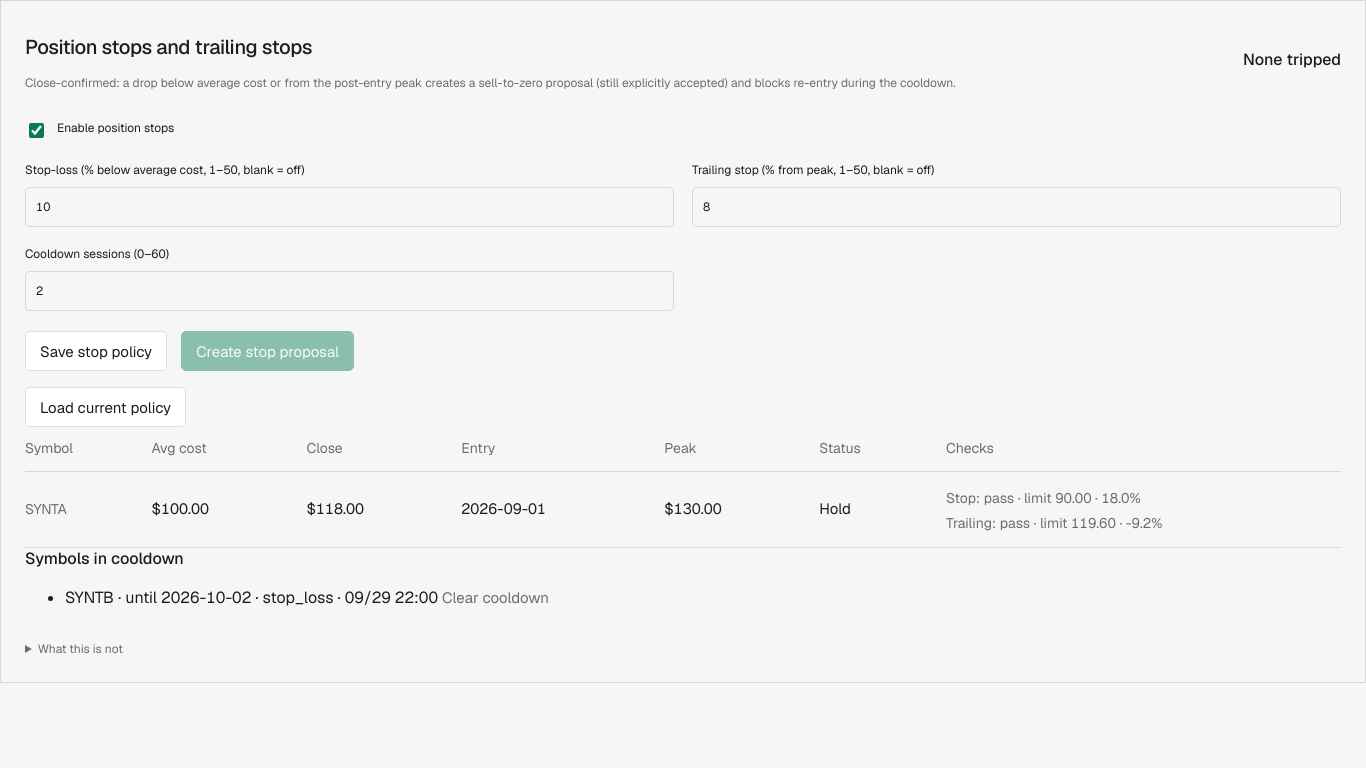
Test case: keeps edits made during save and uses the acknowledged version on the next save
Replace the text in the field labelled "Stop-loss (% below average cost, 1–50, blank = off)" with "22": (350, 207) [25,187,674,227]
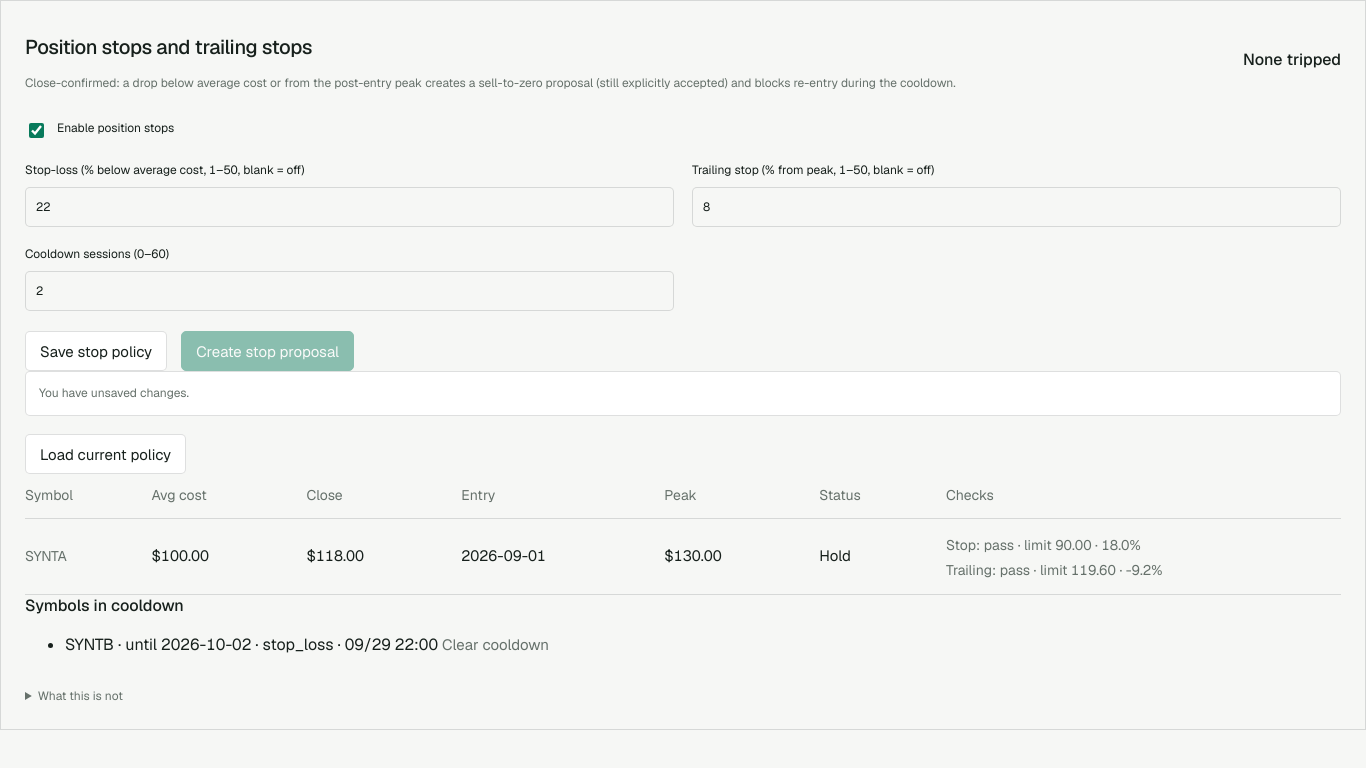
Click the button "Save stop policy": click(96, 351) [25,331,167,371]
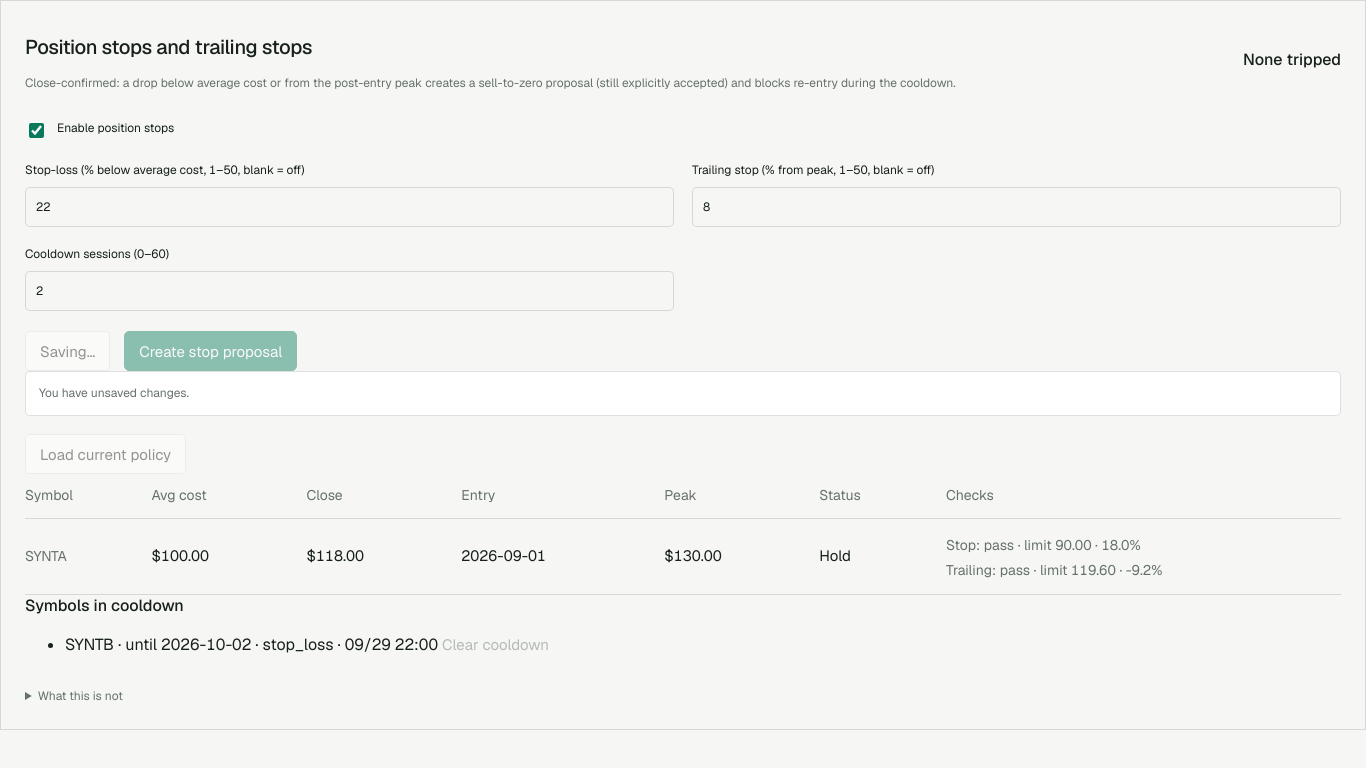
Replace the text in the field labelled "Stop-loss (% below average cost, 1–50, blank = off)" with "24": (350, 207) [25,187,674,227]
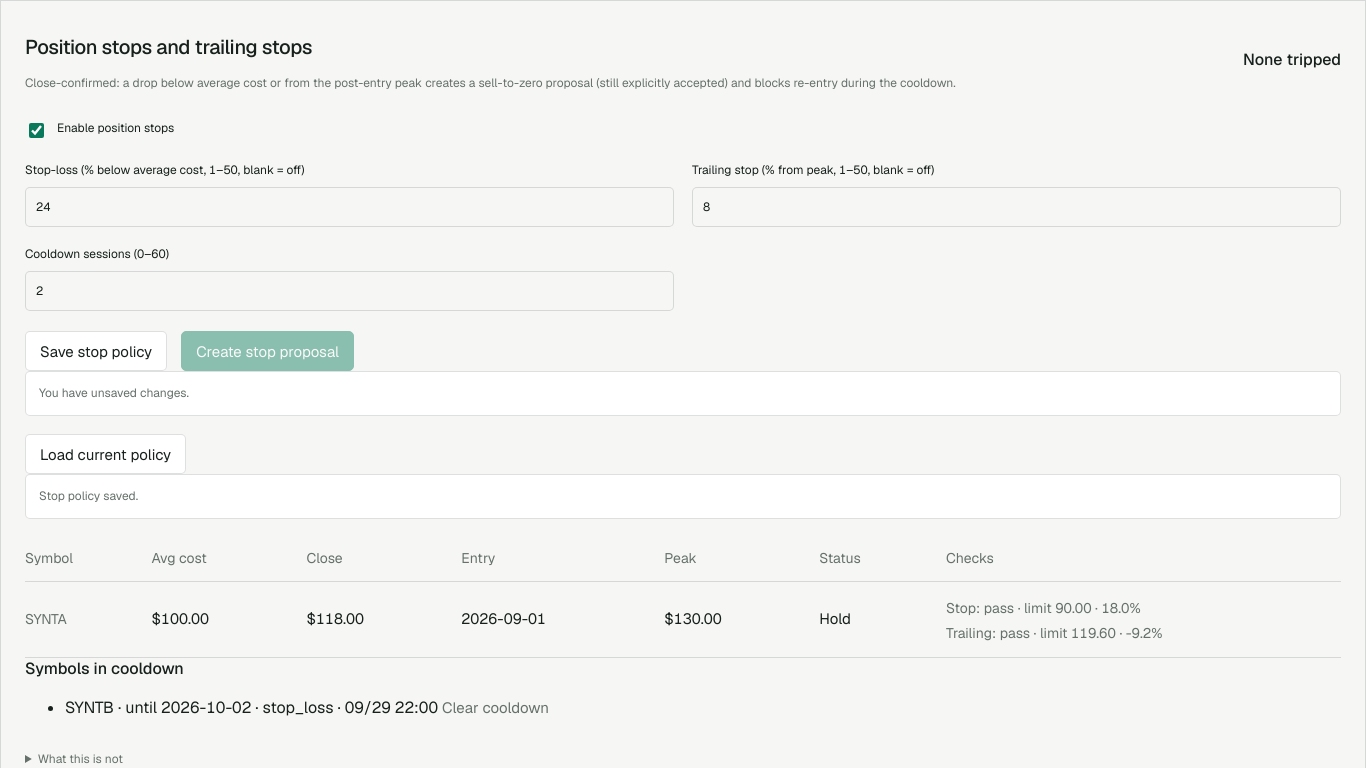
Check: the text "You have unsaved changes." is shown, box [25,371,1341,416]
Check: the text "Stop policy saved." is shown, box [25,474,1341,519]
Click the button "Save stop policy": click(96, 351) [25,331,167,371]
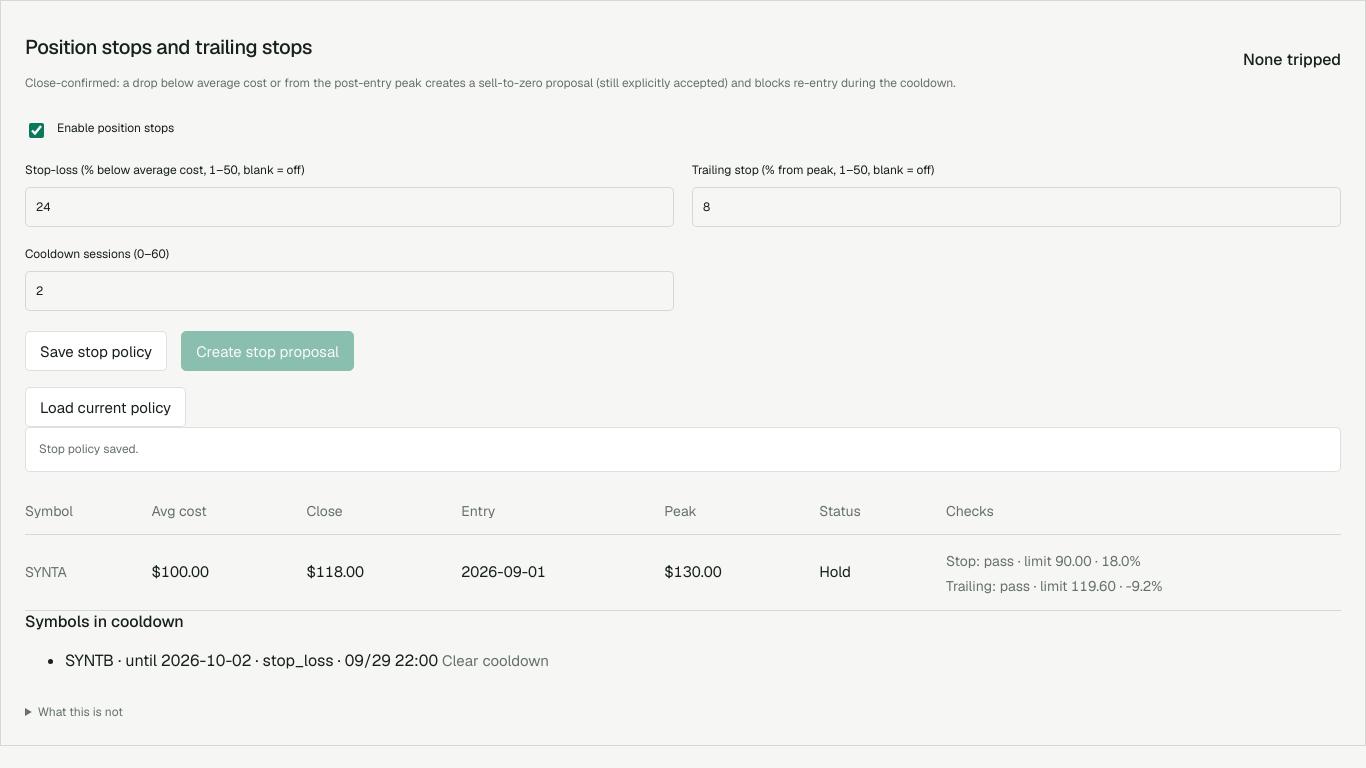
Check: the text "You have unsaved changes." is gone
